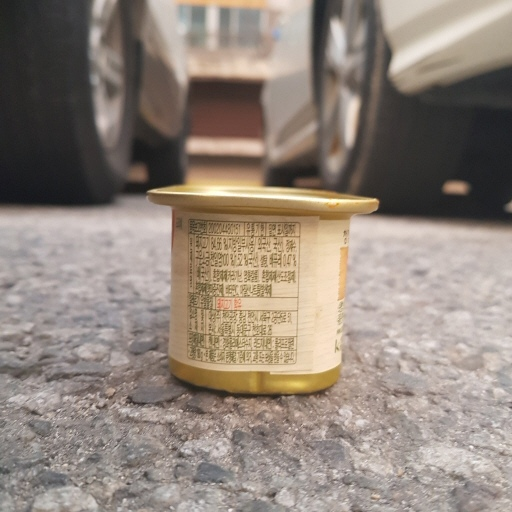Metal_2: (147, 177, 377, 400)
